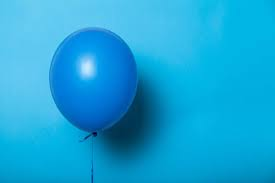Balloon: (48, 27, 137, 134)
